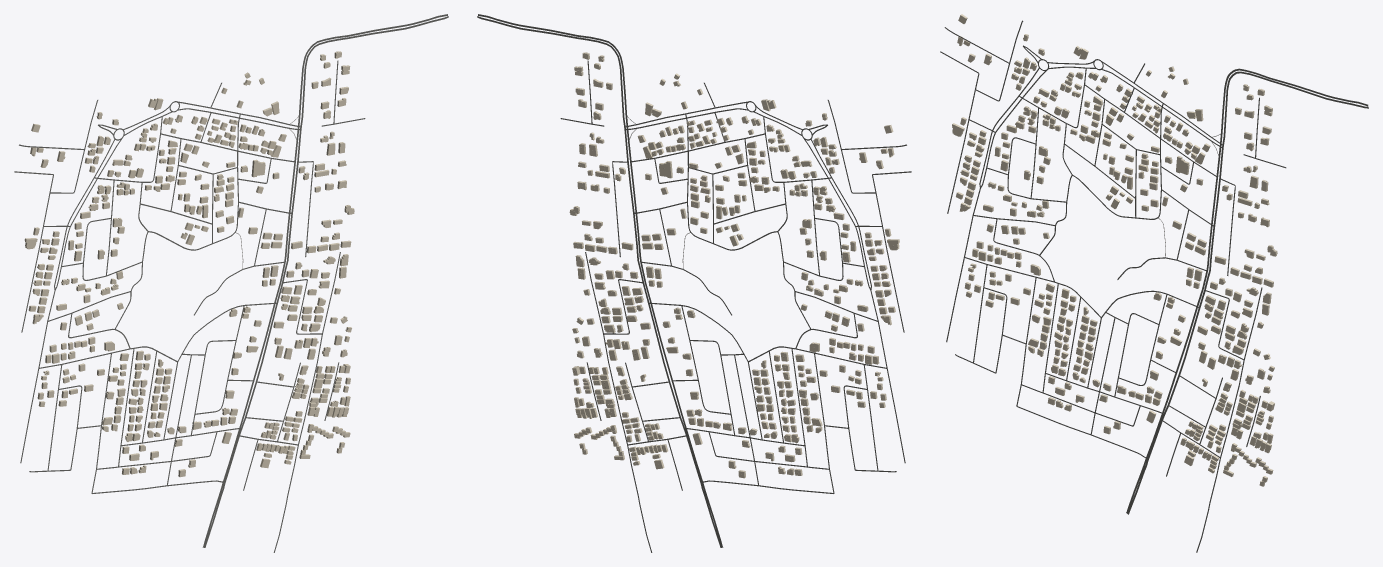
Rendered from irbid_3583_3253.glb.
3 views of the same model, side by side, from view 1: azimuth 30°, elevation 25°; view 2: azimuth 150°, elevation 25°; view 3: azimuth 330°, elevation 25° (orthographic).
Parts seen in each view (by area): view 1: Road .001, Road .060; view 2: Road .001, Road .060; view 3: Road .060, Road .001.
Part boxes in pixels (x1,y1,x2,y2): Road .001: [204, 16, 448, 547]; Road .060: [202, 14, 447, 547]; Road .001: [477, 16, 721, 547]; Road .060: [478, 14, 723, 547]; Road .060: [1126, 68, 1368, 513]; Road .001: [1128, 71, 1368, 514].
Bounding box in the file's own units: 1274 × 1405 × 16.7.
